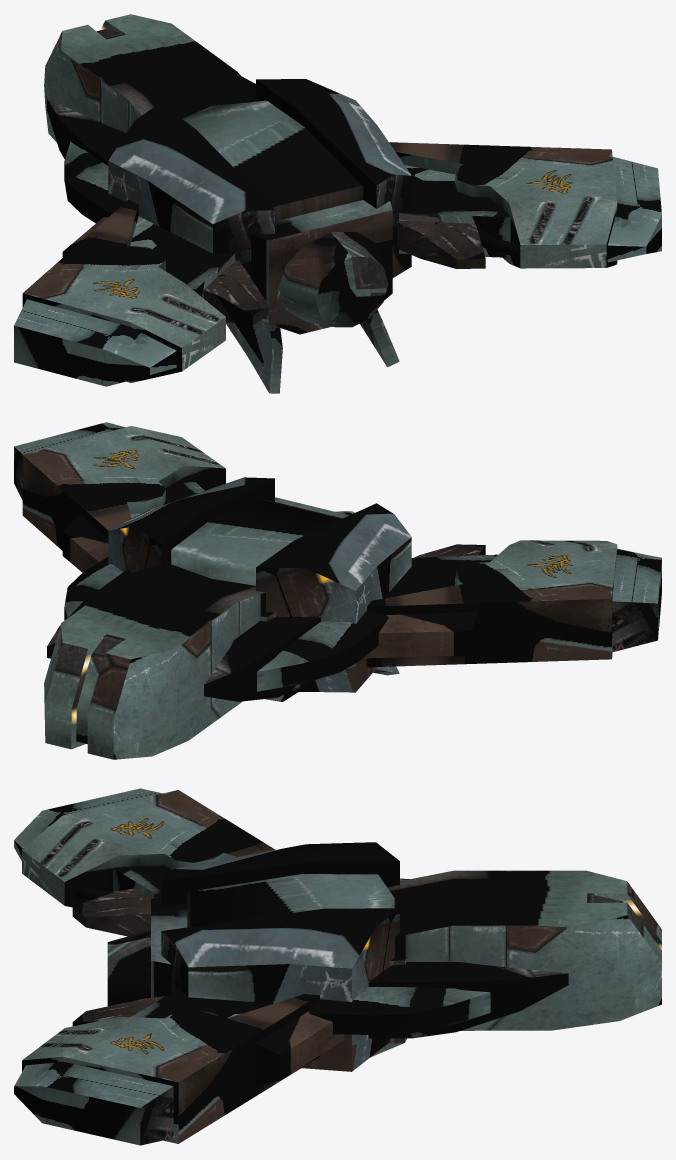
File: ship11d.fbx
3 views of the same model, one above another, from view 1: azimuth 30°, elevation 25°; view 2: azimuth 150°, elevation 25°; view 3: azimuth 270°, elevation 25° (orthographic).
Parts seen in each view (by area): view 1: PipelineFBX; view 2: PipelineFBX; view 3: PipelineFBX.
Part boxes in pixels (<box>): PipelineFBX: <box>14,14,661,393</box>; PipelineFBX: <box>14,422,661,759</box>; PipelineFBX: <box>14,788,661,1145</box>.
Size of the model in its own units: 291 by 85.59 by 250.
Materials: 1 (1 with a texture image).
